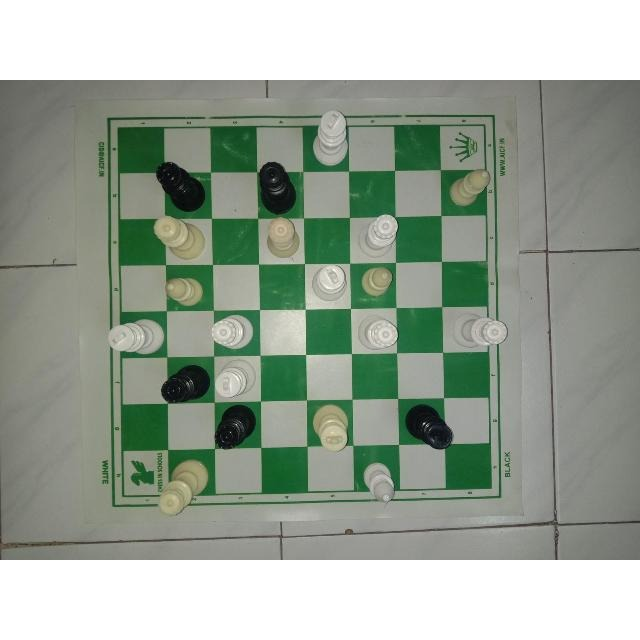black-king: (404, 403, 458, 452)
black-queen: (151, 156, 207, 214), (254, 157, 302, 219), (209, 406, 261, 456), (158, 365, 213, 407)
white-bishop: (361, 455, 404, 509), (157, 272, 215, 312), (447, 163, 496, 207), (353, 259, 398, 305)
white-king: (102, 315, 168, 367), (308, 104, 354, 168), (305, 399, 352, 454), (308, 262, 352, 314), (211, 361, 261, 404)
white-queen: (153, 460, 209, 520), (149, 214, 208, 260), (257, 212, 310, 261), (352, 209, 402, 259), (210, 314, 262, 356), (453, 315, 514, 347), (352, 319, 402, 353)
